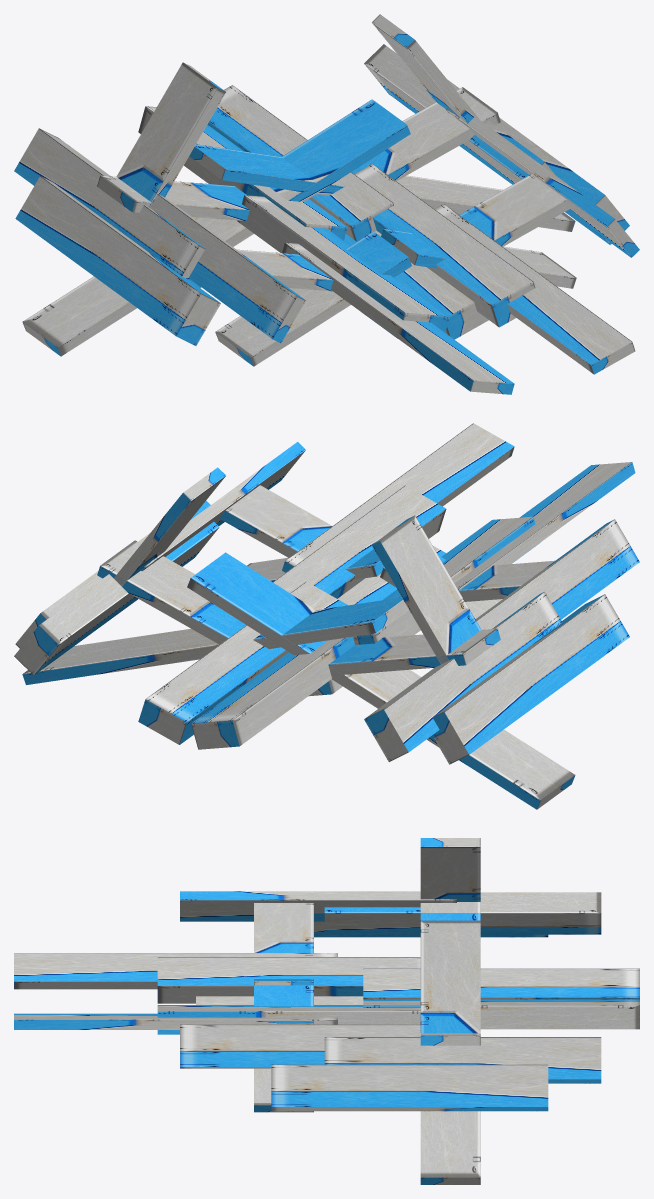
The model's file is F_shipclass4.fbx.
3 views of the same model, one above another, from view 1: azimuth 30°, elevation 25°; view 2: azimuth 150°, elevation 25°; view 3: azimuth 270°, elevation 25° (orthographic). The views are drawn at different scales.
Parts seen in each view (by area): view 1: Friendlyship04; view 2: Friendlyship04; view 3: Friendlyship04.
Part boxes in pixels (x1=…): Friendlyship04: x1=14, y1=14, x2=639, y2=394; Friendlyship04: x1=14, y1=423, x2=639, y2=809; Friendlyship04: x1=14, y1=838, x2=639, y2=1184.
Bounding box in the file's own units: 535 × 227 × 651.
1 material, 1 textured.
